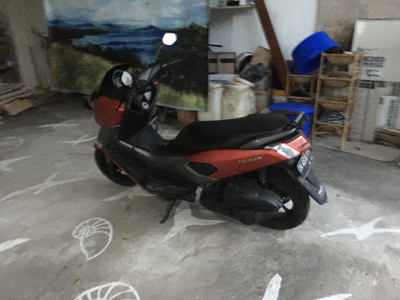moto: (90, 56, 325, 235)
